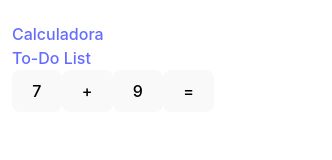
Test: React calculator example › Should validate addition operation
Green: Agora a funcionalidade de soma foi implementada e espero que o teste passe.
Click the button "7": (37, 91) [12,70,62,111]
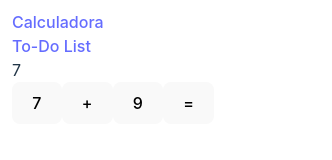
Click the button "+": (88, 103) [62,82,113,123]
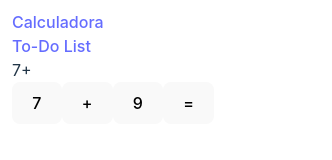
Click the button "9": (139, 103) [113,82,164,123]
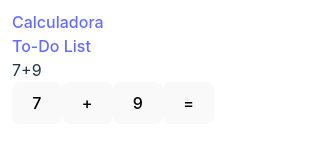
Click the button "=": (189, 103) [163,82,214,123]
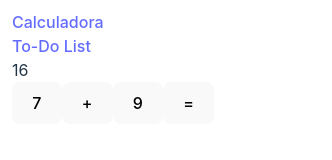
Now the text "16" is shown, box [12,60,28,80]
